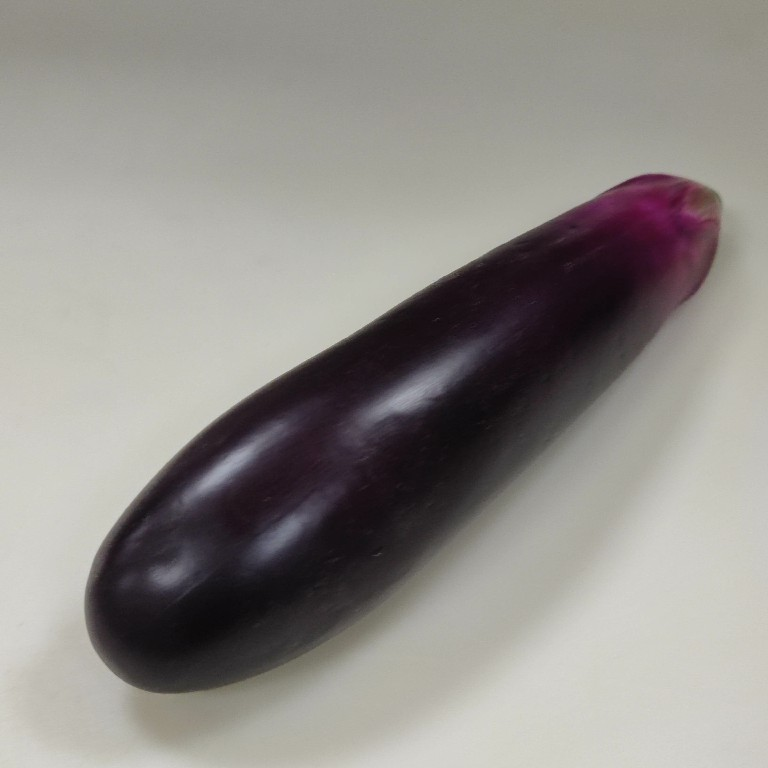fruit_eggplant: (79, 168, 728, 697)
